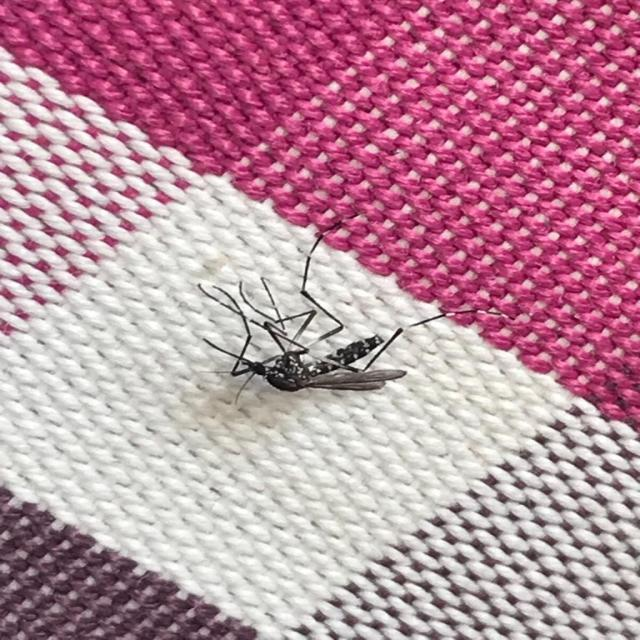albopictus: (181, 208, 472, 400)
